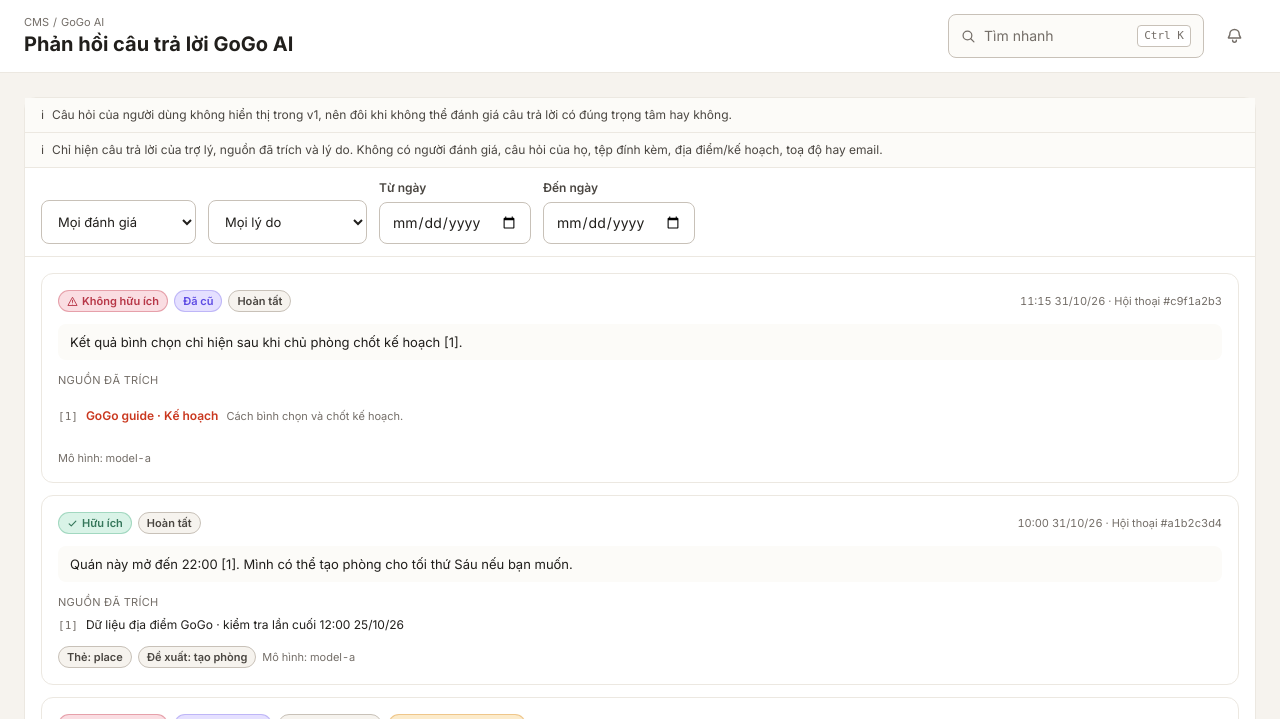
Scenario: GoGo AI feedback queue — role × state (CMS#249) › filters by rating on the server
Select "Hữu ích" in the dropdown named "Đánh giá": (118, 222) [41,200,196,244]
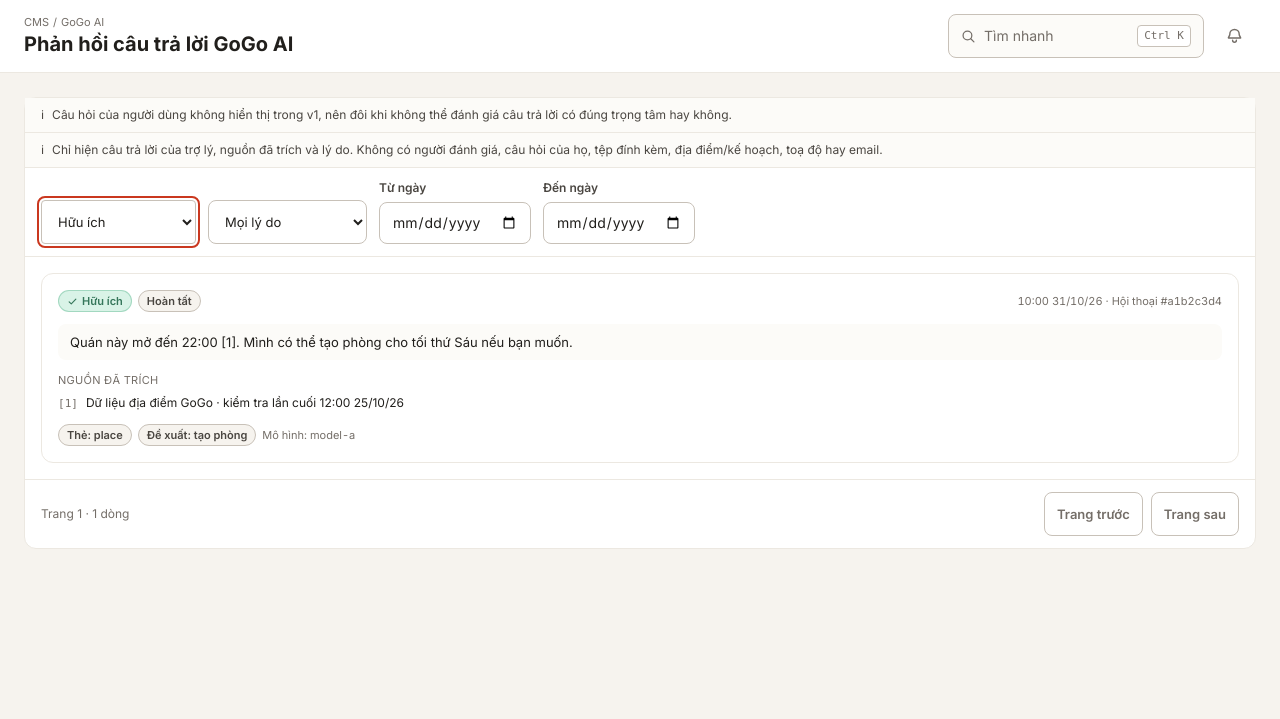
Expected: the text "Quán này mở đến 22:00" is shown, [70,334,573,350]
Expected: the text "chỉ hiện sau khi chủ phòng chốt" is gone
